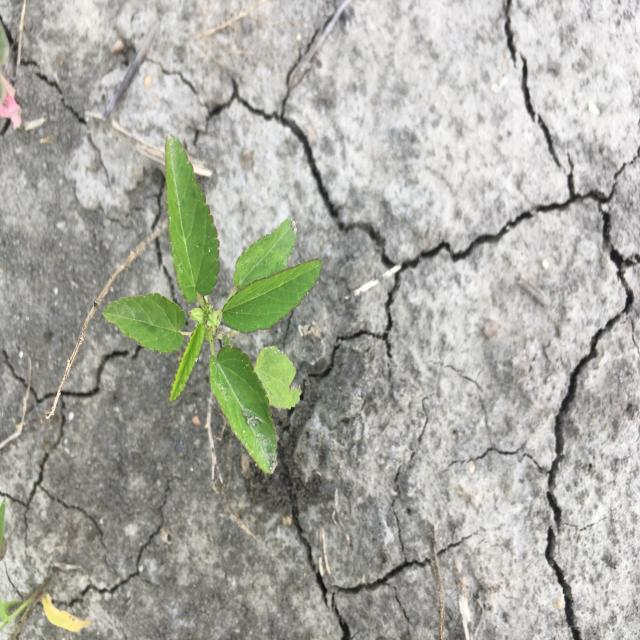PricklySida: (100, 132, 324, 476)
